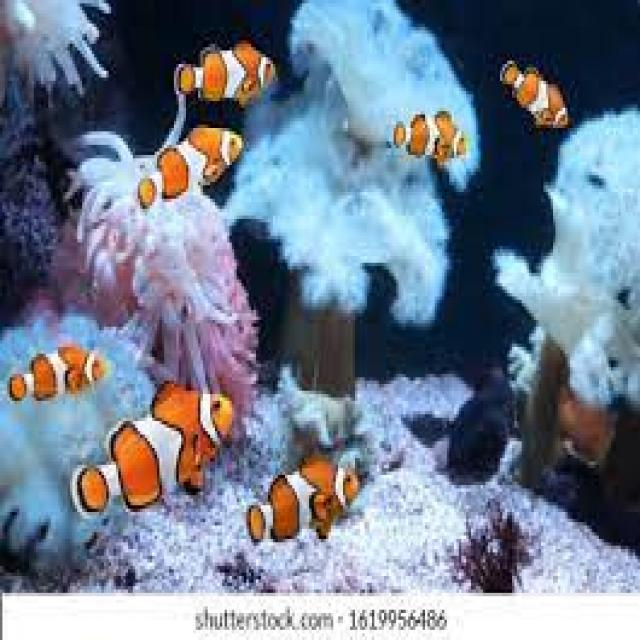Amphiprion-percula: (38, 374, 244, 520), (211, 452, 414, 553), (140, 19, 314, 122), (118, 110, 264, 225), (15, 292, 121, 434), (462, 39, 594, 142), (371, 82, 483, 179)
